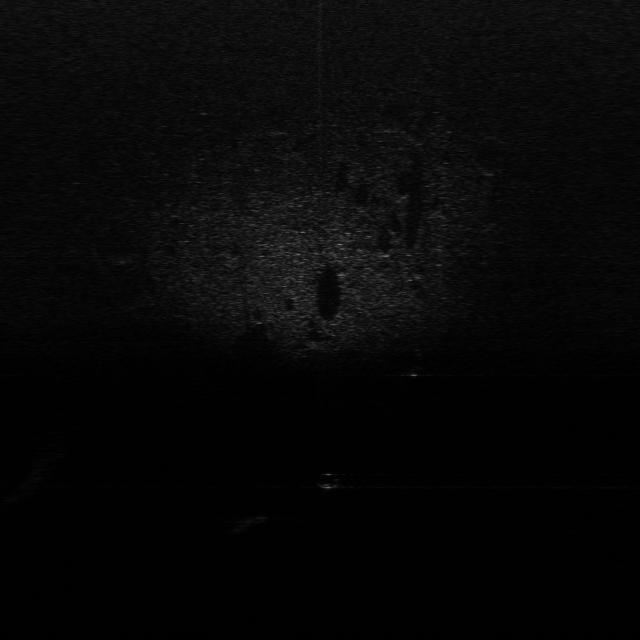ball: (314, 468, 344, 491)
square cage: (227, 510, 278, 536)
tyre: (401, 344, 437, 380)
